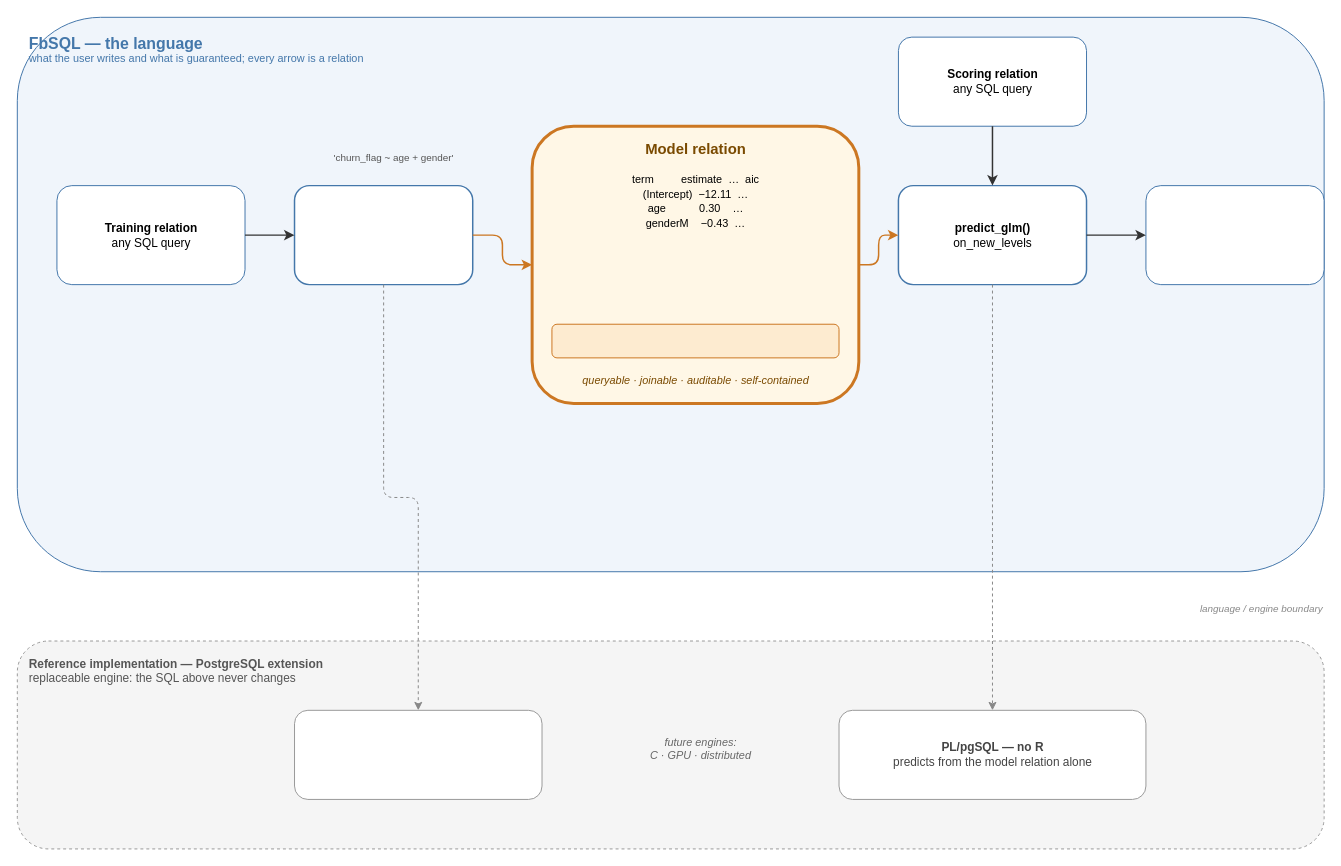
Some shapes in this 1341 by 866 pixel diagram are drawn without their labels. The shapes that lost their labels are listed below. From the top down, each one's centre as x and y in pixels, then its label:
At point 383,234: "fit_glm() formula, family".
At point 1234,235: "Prediction relation + <response>_predicted".
At point 695,340: "metadata: xlevels · contrasts · terms".
At point 418,754: "PL/R → stats::glm() fitting engine (R as oracle)".
